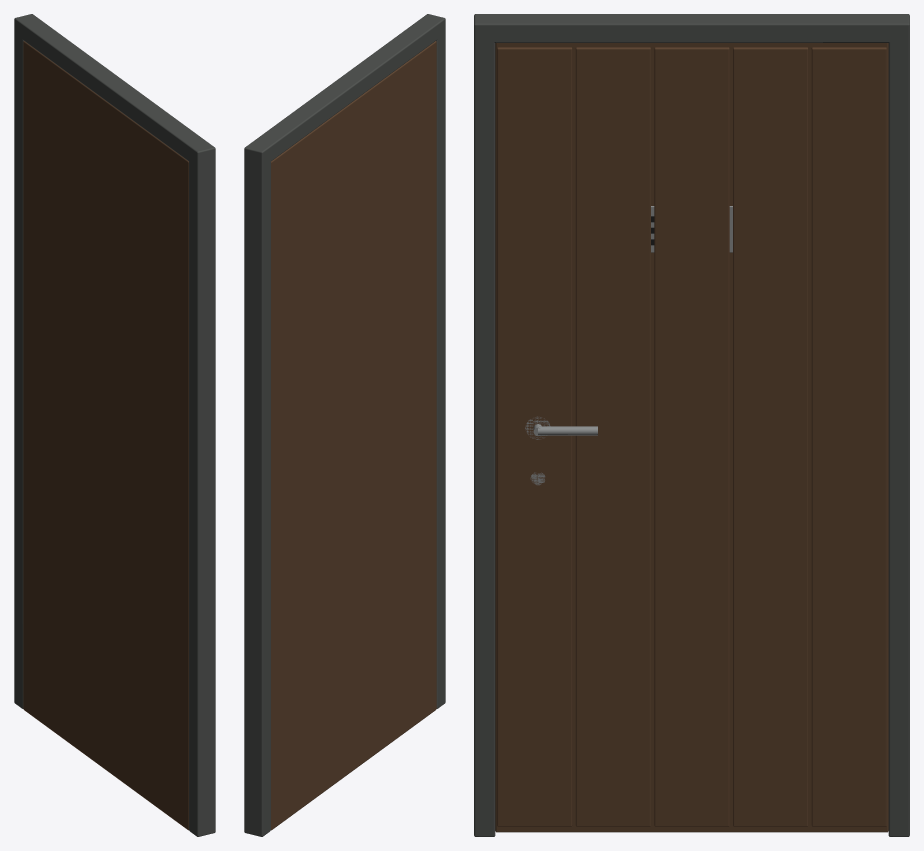
File: door_wood_old.glb
3 views of the same model, side by side, from view 1: azimuth 30°, elevation 25°; view 2: azimuth 150°, elevation 25°; view 3: azimuth 270°, elevation 25° (orthographic). The views are drawn at different scales.
Visible parts, largest first — view 1: blatt, zarge_r, zarge_l, zarge_o; view 2: blatt, zarge_l, zarge_r, zarge_o; view 3: brett3, brett4, brett2, brett1, brett0, blatt, zarge_r, zarge_l, zarge_o.
Part boxes in pixels (x1,y1,x2,y2): blatt: [23, 41, 188, 830]; zarge_r: [189, 142, 215, 836]; zarge_l: [14, 14, 39, 708]; zarge_o: [14, 14, 215, 166]; blatt: [271, 41, 436, 830]; zarge_l: [244, 142, 270, 836]; zarge_r: [421, 14, 445, 708]; zarge_o: [244, 14, 445, 166]; brett3: [733, 47, 808, 826]; brett4: [811, 47, 886, 826]; brett2: [654, 47, 729, 826]; brett1: [575, 47, 650, 826]; brett0: [497, 47, 572, 826]; blatt: [495, 43, 888, 832]; zarge_r: [474, 14, 495, 836]; zarge_l: [888, 14, 909, 836]; zarge_o: [474, 14, 909, 42].
Size of the model in its own units: 0.0705 by 2.1 by 1.02.
